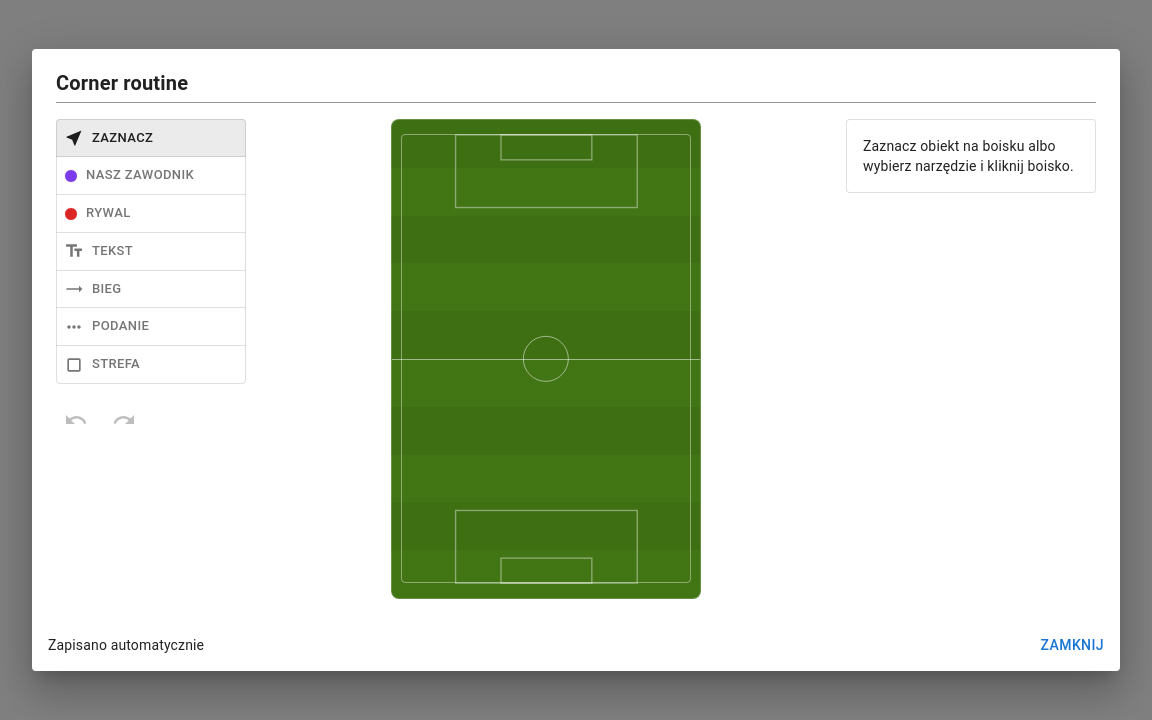
Test: placing objects › places a text with a default caption
Step 1. Click the button "Tekst" → x=151, y=251, box [56, 232, 246, 271]
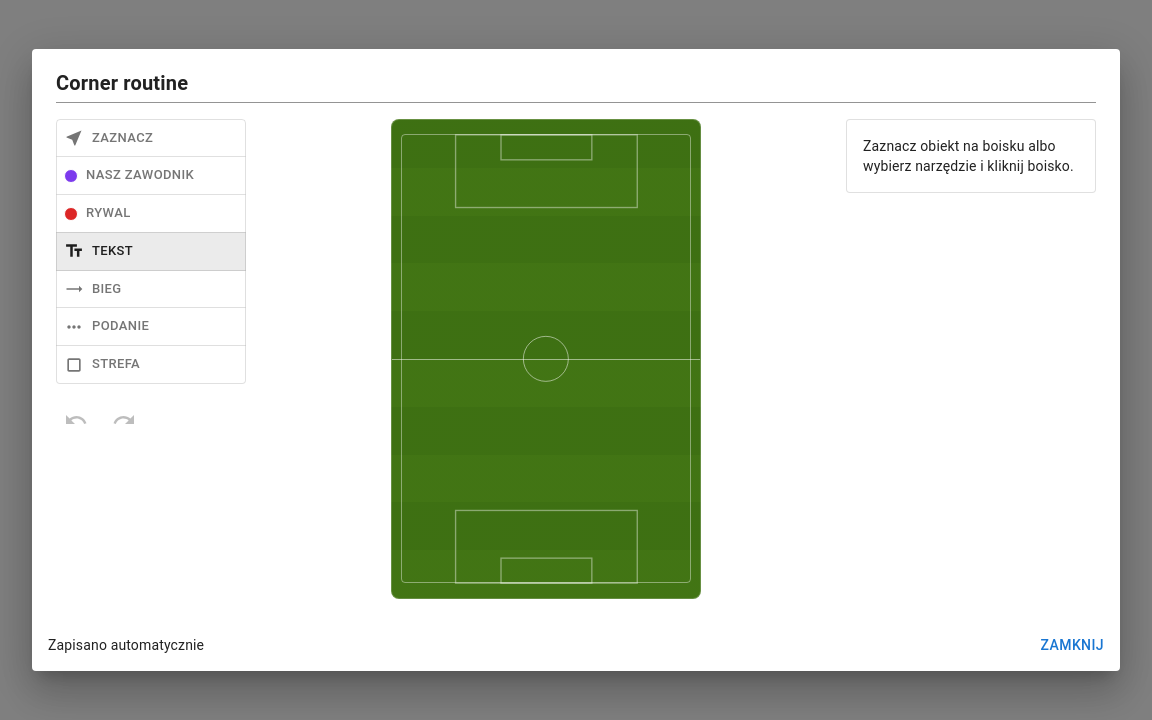
Step 2. Press the mouse on the 1st icon → x=546, y=359, box [392, 120, 700, 598]
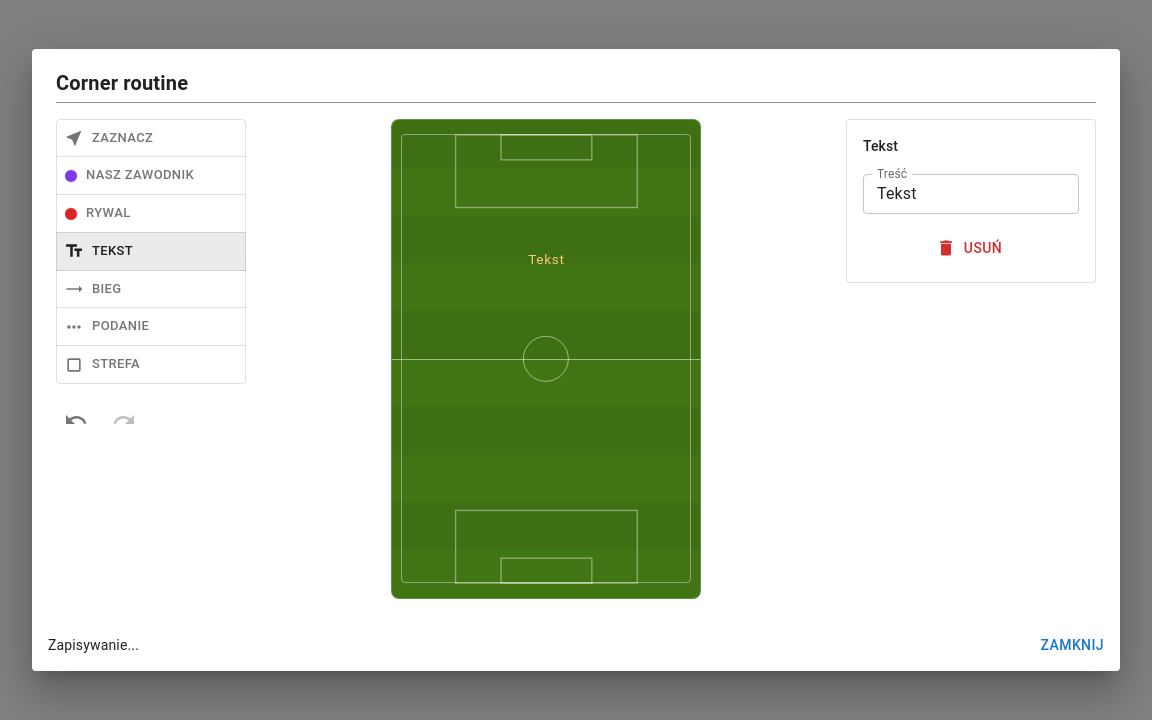
Result: the field labelled "Treść" holds "Tekst" at [863, 174, 1079, 214]
